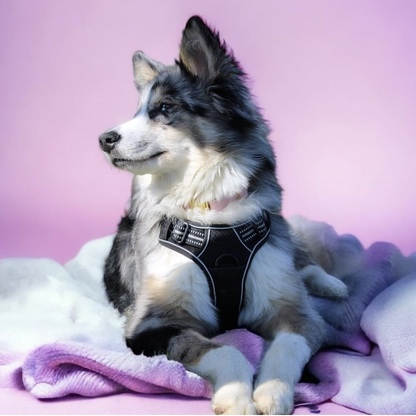husky: (93, 12, 354, 416)
